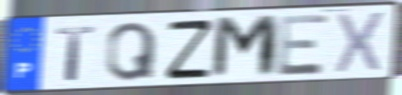E: (275, 12, 332, 78)
M: (209, 13, 282, 81)
Q: (105, 19, 159, 83)
T: (54, 24, 98, 83)
X: (333, 9, 388, 75)
Z: (164, 17, 215, 82)
